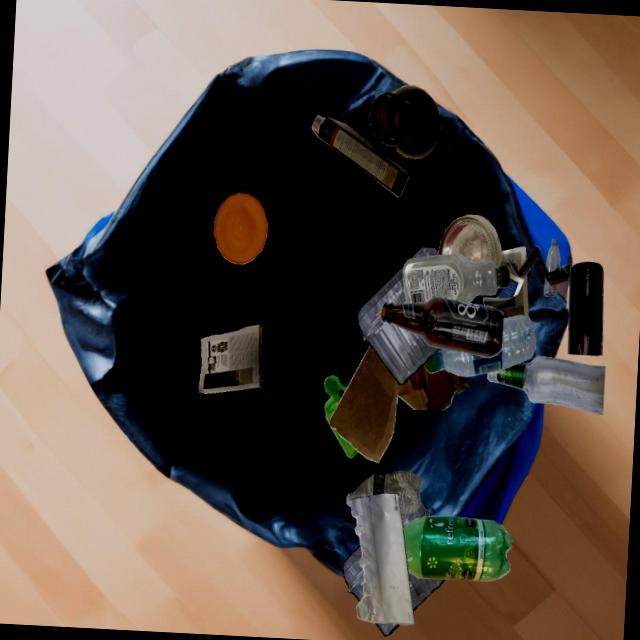cardboard: (329, 345, 399, 463), (311, 115, 409, 197), (398, 362, 469, 411), (508, 246, 571, 286)
glass: (381, 297, 504, 358), (488, 356, 605, 415), (370, 85, 441, 159), (438, 214, 502, 267), (568, 262, 604, 355)
paper: (351, 493, 414, 626), (199, 325, 262, 394), (470, 247, 529, 318)
plastic: (357, 264, 440, 385), (403, 516, 512, 582), (359, 526, 429, 624), (426, 315, 536, 377), (403, 253, 510, 304), (214, 193, 268, 265), (346, 470, 421, 513), (324, 375, 346, 423), (329, 425, 358, 458), (546, 238, 561, 272), (544, 276, 558, 297)
